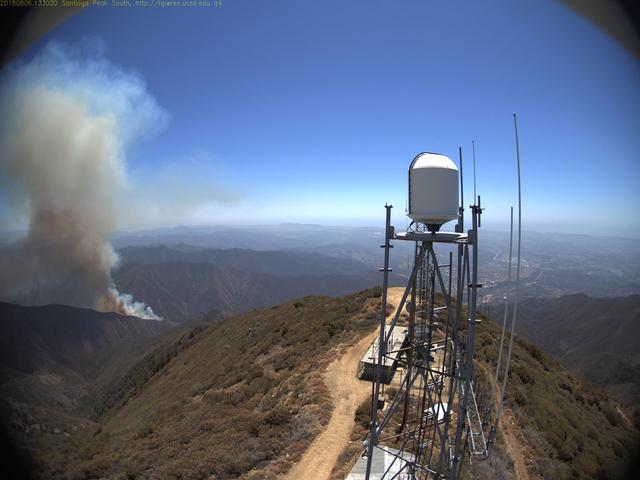smoke: (7, 67, 164, 323)
